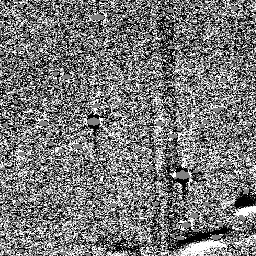LE: (164, 233, 226, 256), (232, 198, 256, 218)
